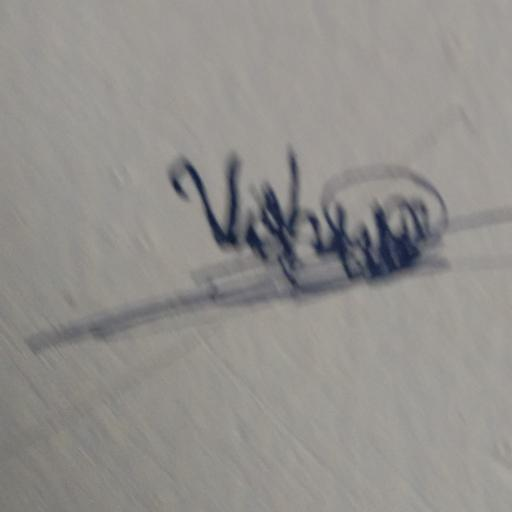stain: (15, 137, 512, 352)
